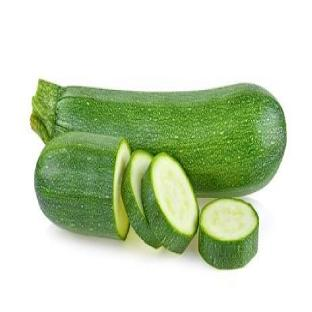Zucchini: (31, 81, 286, 196), (35, 132, 130, 239), (142, 153, 198, 253), (199, 200, 258, 268), (122, 150, 161, 248)
